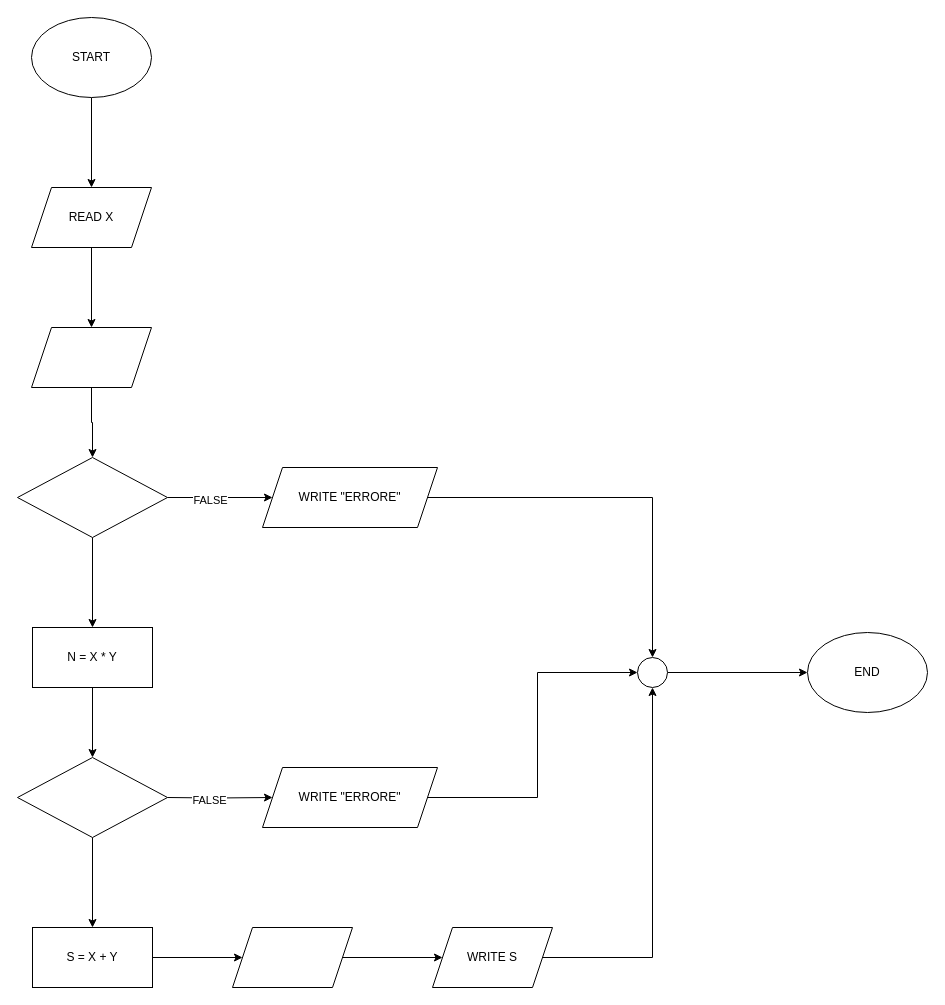
This 945x1005 diagram has some shape labels left out. Here are the shapes that lost their labels. From the top down, the box of each, then its label:
(30, 326, 152, 388): READ Y
(16, 456, 168, 538): X > 0 AND Y > 0
(16, 756, 168, 838): X < 0 AND Y < 0
(232, 926, 352, 988): WRITE N
